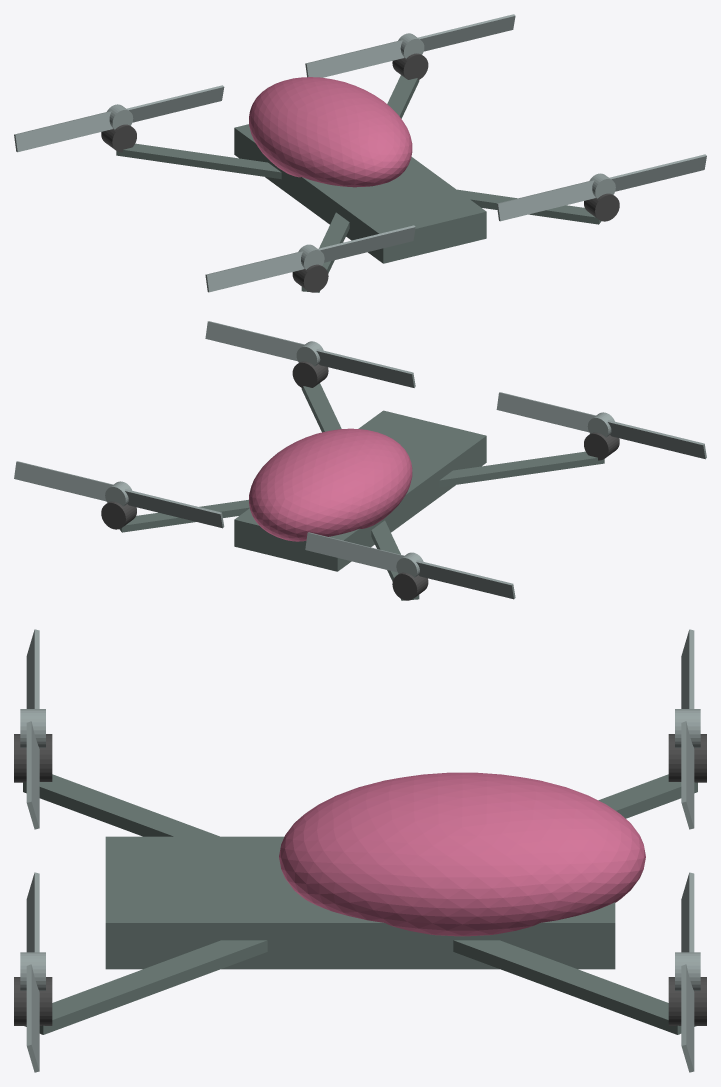
The model's file is Source One 7.glb.
The picture shows the model from 3 angles, top to bottom: view 1: azimuth 30°, elevation 25°; view 2: azimuth 150°, elevation 25°; view 3: azimuth 270°, elevation 25°; orthographic projection. The views are drawn at different scales.
Parts seen in each view (by area): view 1: canopy, frame_body, prop_2, prop_3, prop_0, prop_1, arm_3, arm_0, arm_2, motor_2, arm_1, motor_0 (+2 smaller); view 2: canopy, frame_body, prop_0, prop_2, prop_3, prop_1, arm_2, arm_1, arm_0, motor_3, motor_1, motor_0 (+2 smaller); view 3: canopy, frame_body, arm_0, arm_1, arm_2, prop_1, prop_3, prop_0, prop_2, arm_3, motor_0, motor_1 (+2 smaller).
Part boxes in pixels (x1,y1,x2,y2): canopy: (249,77,412,187); frame_body: (234,124,486,263); prop_2: (205,225,415,292); prop_3: (14,85,224,152); prop_0: (496,154,706,221); prop_1: (305,14,515,77); arm_3: (116,143,281,179); arm_0: (457,189,601,224); arm_2: (301,212,349,292); motor_2: (292,264,328,292); arm_1: (387,75,419,118); motor_0: (584,193,619,221); canopy: (249,428,412,541); frame_body: (234,410,486,571); prop_0: (205,321,415,387); prop_2: (496,392,706,459); prop_3: (305,532,515,599); prop_1: (14,461,224,528); arm_2: (439,451,604,487); arm_1: (119,499,249,532); arm_0: (301,383,341,432); motor_3: (392,572,428,600); motor_1: (101,501,136,529); motor_0: (292,361,328,388); canopy: (279,772,645,936); frame_body: (105,836,615,969); arm_0: (24,940,267,1034); arm_1: (453,940,696,1034); arm_2: (23,774,219,836); prop_1: (675,872,700,1072); prop_3: (675,629,700,829); prop_0: (20,872,45,1072); prop_2: (20,629,45,829); arm_3: (598,774,697,818); motor_0: (14,977,52,1025); motor_1: (668,977,706,1025).
Bounding box in the file's own units: 0.3856 × 0.0588 × 0.2718.
